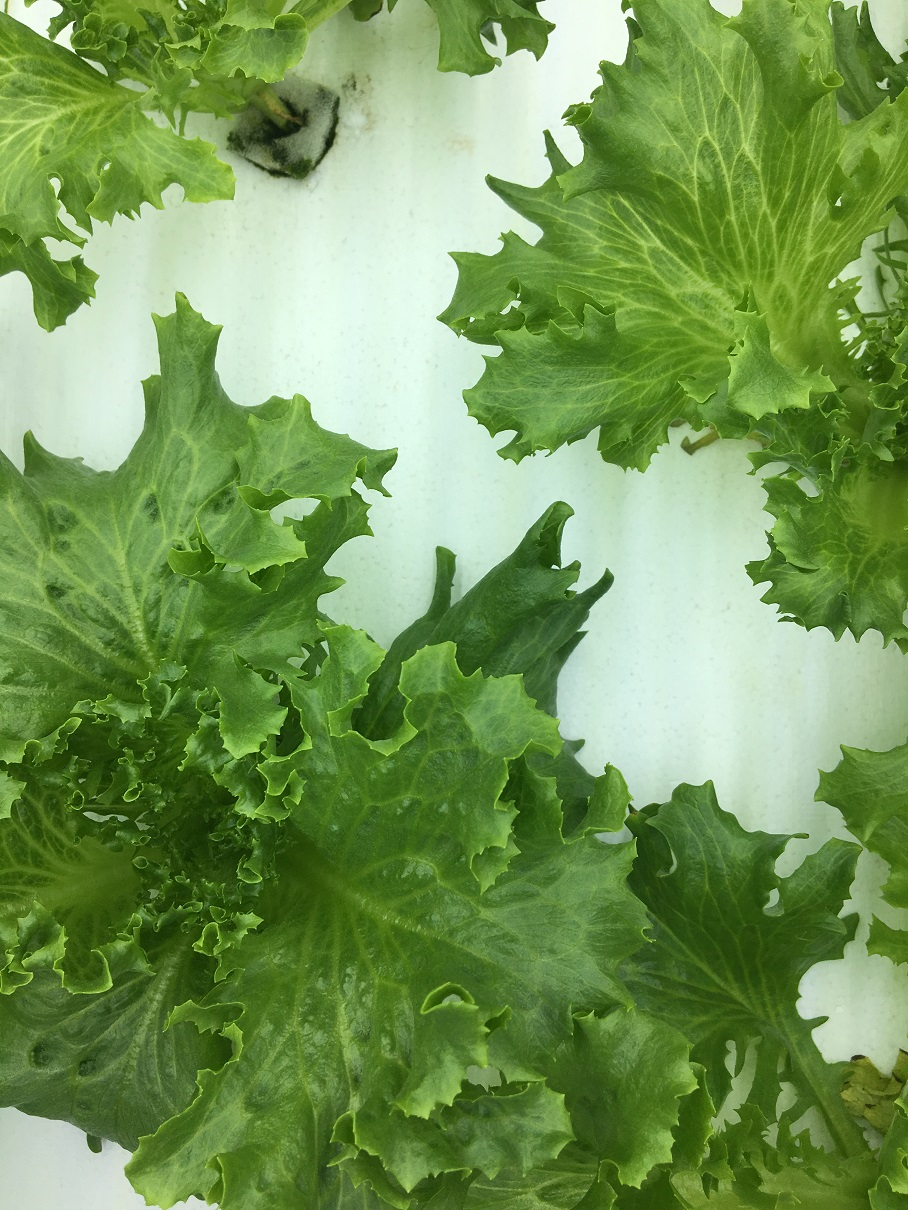tipburn: (849, 1043, 869, 1069), (626, 803, 646, 823), (862, 1096, 881, 1117)
